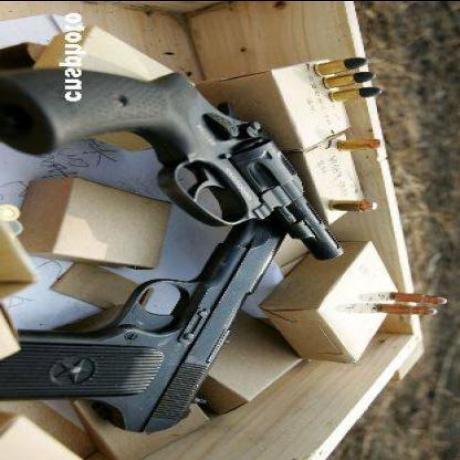weapon: (0, 58, 352, 260), (0, 218, 292, 434)
